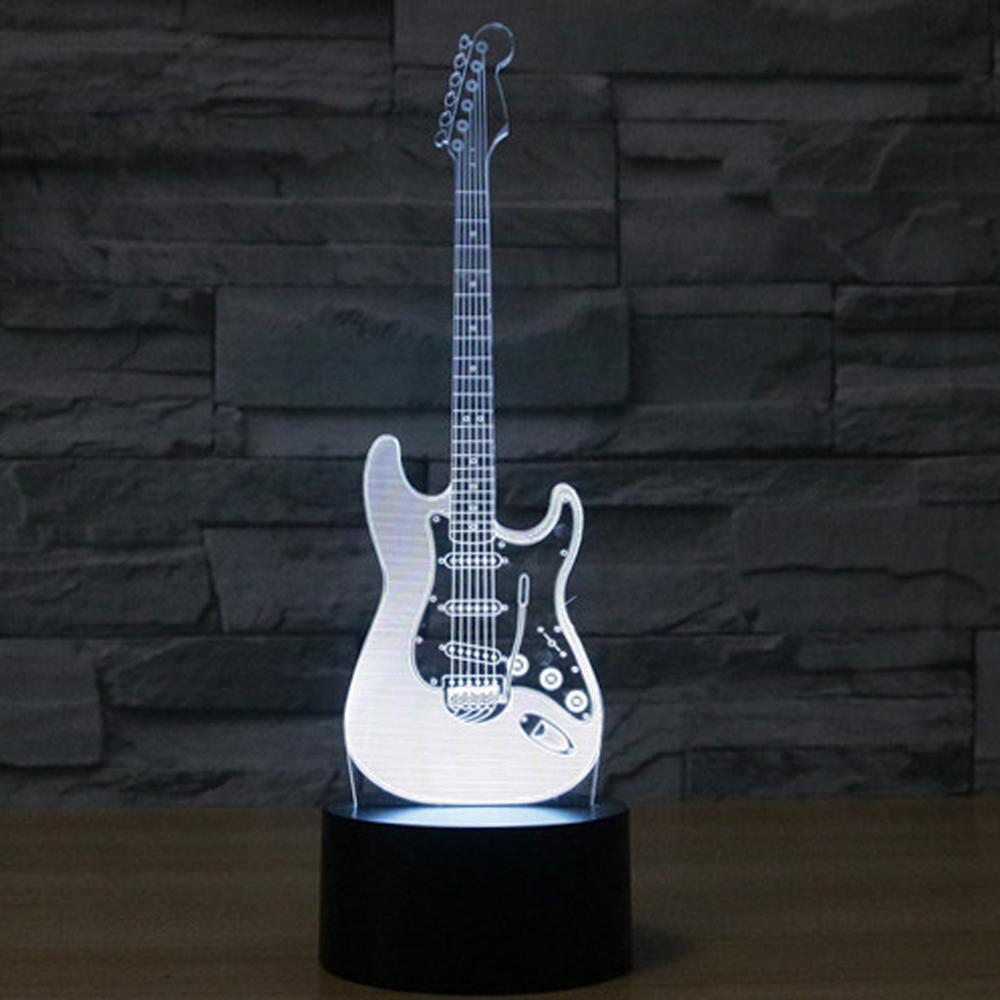ElectricGuitar: (324, 39, 618, 822)
